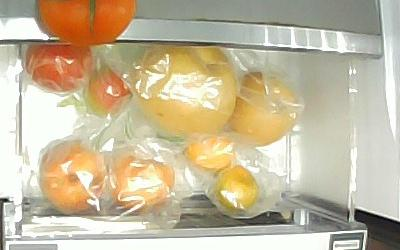peach_vinyl: (38, 138, 108, 214), (108, 150, 175, 213)
pear_vinyl: (126, 43, 236, 135), (229, 69, 300, 144)
tangerine_vinyl: (211, 163, 259, 212), (185, 135, 236, 168)
tomato_vinyl: (24, 40, 93, 93), (85, 63, 133, 116)
